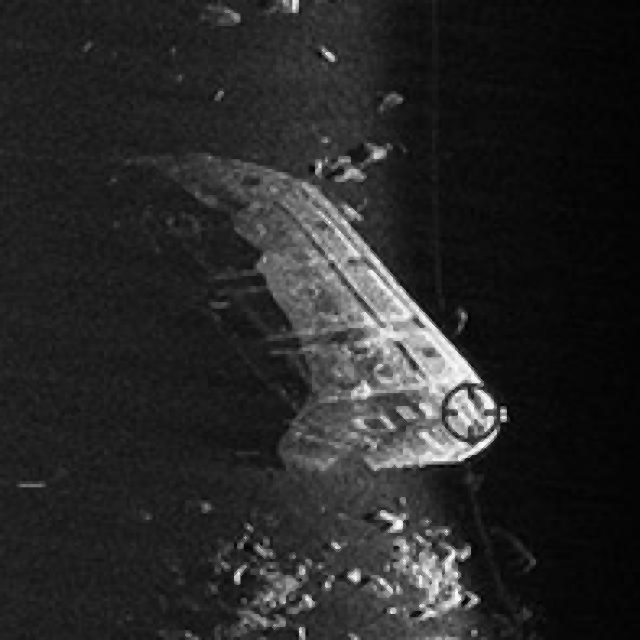Ship: (115, 134, 521, 500)
